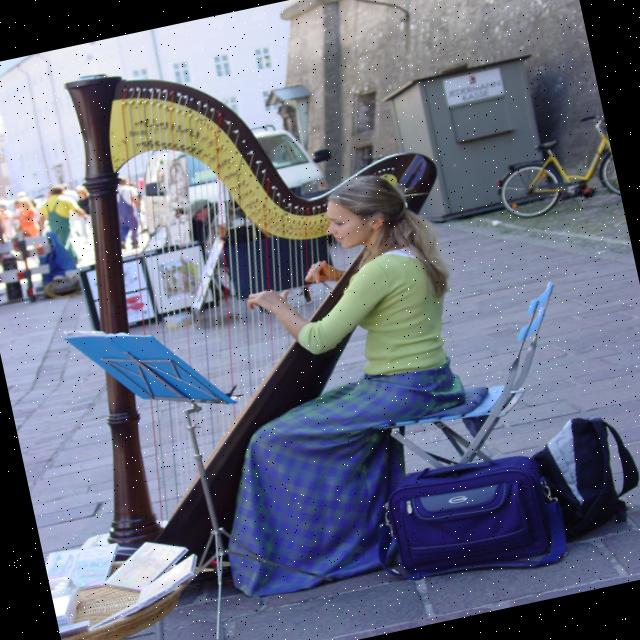harp: (0, 7, 511, 584)
